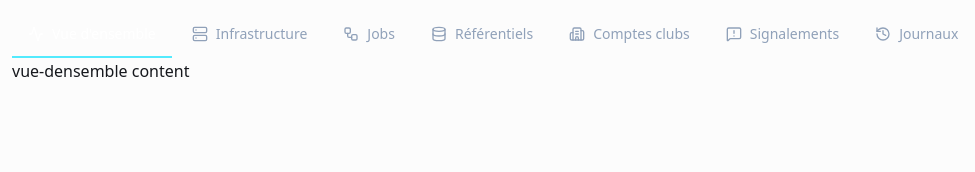
Scenario: Tabs › click changes the active tab and shows the corresponding panel
This screenshot has width=975, height=172.
Expected: the text "vue-densemble content" is shown, [12,60,190,82]
Expected: the text "jobs content" is not shown
Click the tab "Jobs". click: {"x": 369, "y": 35}
box: [327,12,411,58]
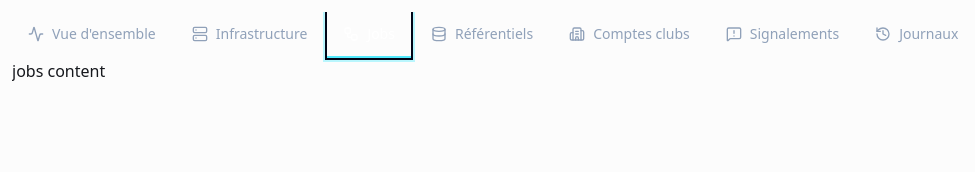
Result: the text "jobs content" is shown at [12,60,105,82]
Result: the text "vue-densemble content" is gone
